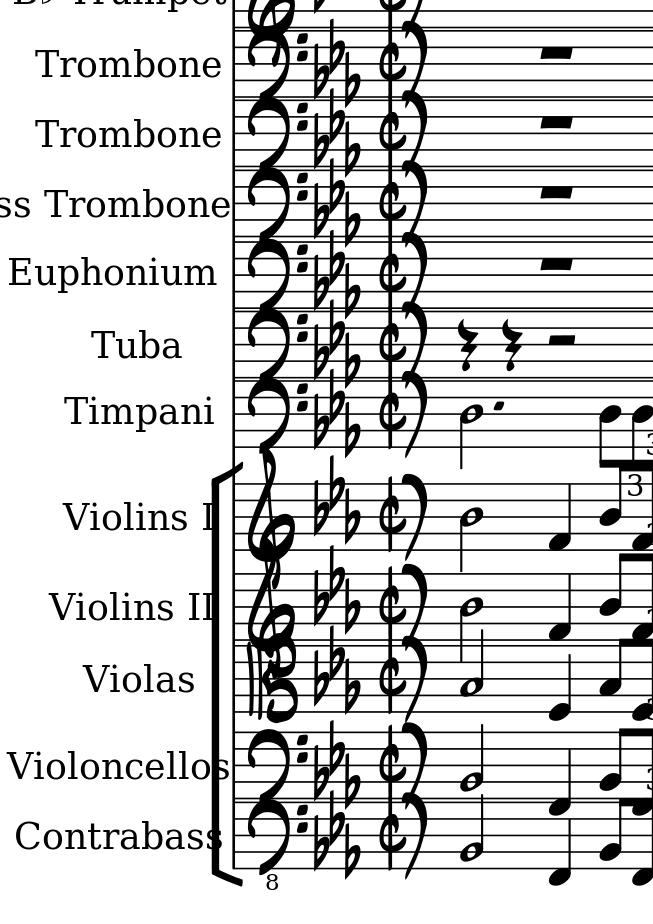2_4: (458, 481, 487, 570)
4_1: (546, 480, 574, 554)
Bracke: (209, 462, 245, 887)
Rests1: (534, 253, 581, 276), (537, 177, 575, 203), (538, 112, 578, 133), (535, 43, 580, 60)
Rests2: (545, 329, 586, 354)
Rests4: (500, 316, 523, 371), (457, 319, 480, 373)
dot: (489, 394, 509, 416)
